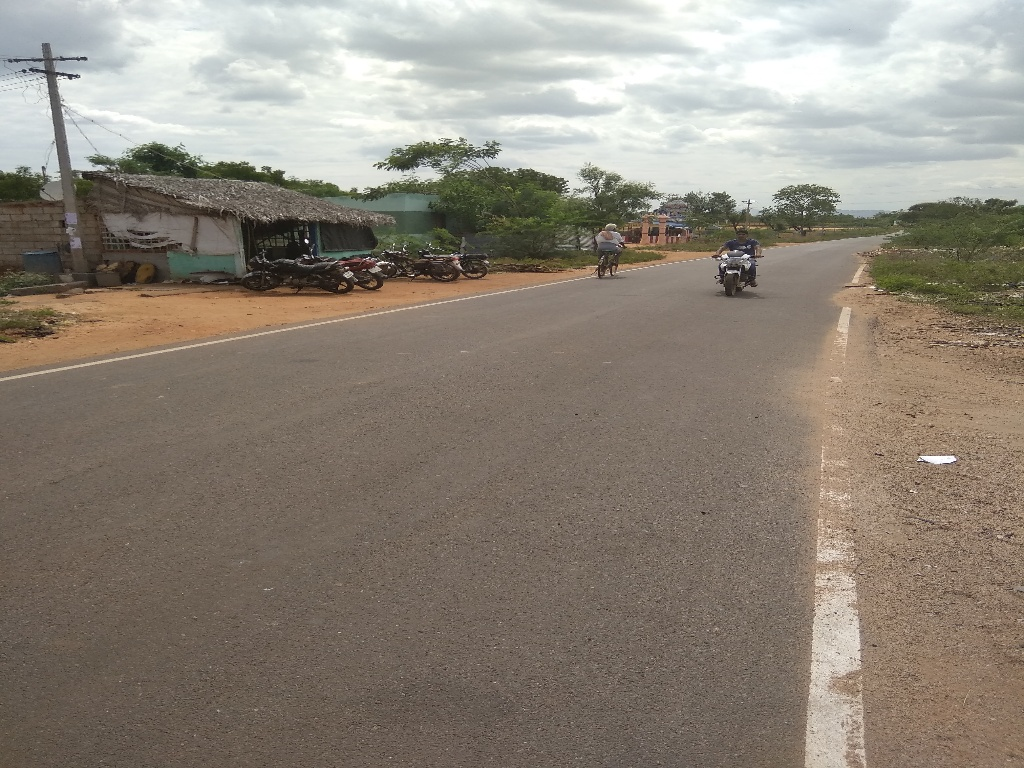biker: (701, 199, 777, 309)
nohelmet: (729, 219, 756, 253)
